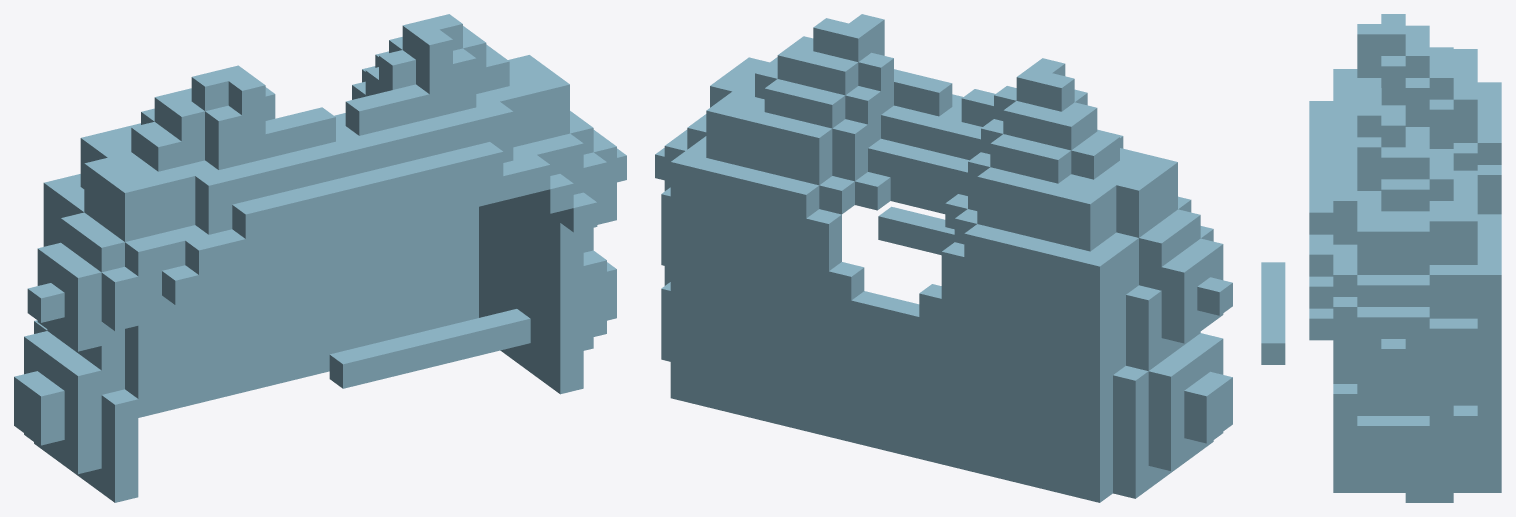
The model's file is accessories_head_rick.glb.
The picture shows the model from 3 angles, left to right: view 1: azimuth 30°, elevation 25°; view 2: azimuth 150°, elevation 25°; view 3: azimuth 270°, elevation 25°; orthographic projection. The views are drawn at different scales.
Parts seen in each view (by area): view 1: model_0; view 2: model_0; view 3: model_0.
Boxes of the visible parts, box(x1,y1,x2,y2) form: model_0: box(14, 14, 626, 502); model_0: box(655, 14, 1232, 502); model_0: box(1261, 14, 1501, 502).
Bounding box in the file's own units: 25 × 15 × 10.
